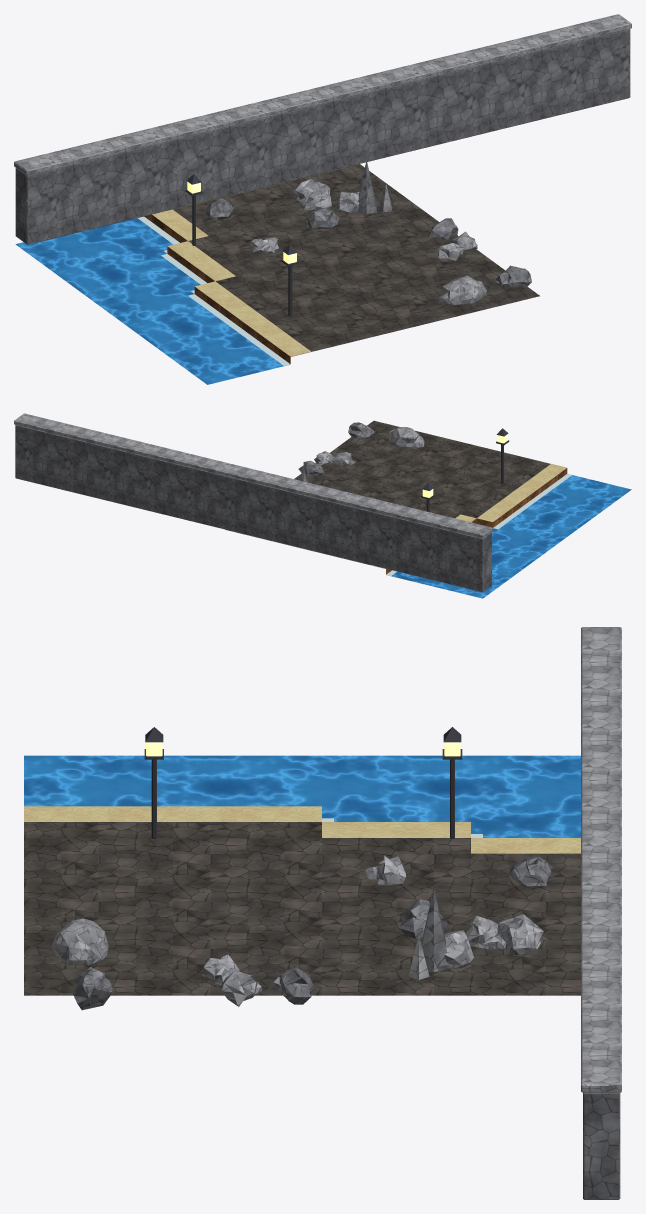
The model's file is chunk_4_18.glb.
The picture shows the model from 3 angles, top to bottom: view 1: azimuth 30°, elevation 25°; view 2: azimuth 150°, elevation 25°; view 3: azimuth 270°, elevation 25°; orthographic projection. The views are drawn at different scales.
Parts seen in each view (by area): view 1: chunk_4_18; view 2: chunk_4_18; view 3: chunk_4_18.
Boxes of the visible parts, x1,y1,x2,y2 form: chunk_4_18: [14, 14, 631, 384]; chunk_4_18: [14, 413, 631, 598]; chunk_4_18: [24, 627, 621, 1199].
Size of the model in its own units: 29.1 by 3.96 by 16.05.
Materials: 13 (10 with a texture image).
